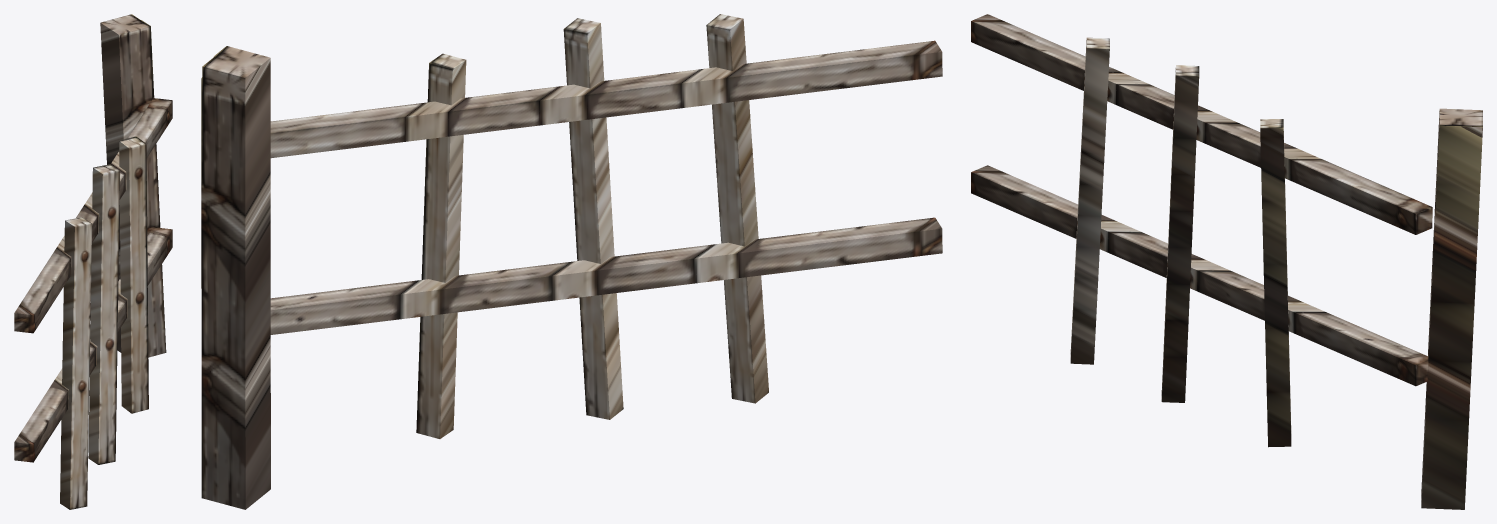
Rendered from fence_13.glb.
3 renders of one model, left to right at view 1: azimuth 30°, elevation 25°; view 2: azimuth 150°, elevation 25°; view 3: azimuth 270°, elevation 25°, orthographic. The views are drawn at different scales.
Parts seen in each view (by area): view 1: fence_13_game; view 2: fence_13_game; view 3: fence_13_game.
Boxes of the visible parts, x1,y1,x2,y2 form: fence_13_game: [14, 14, 172, 509]; fence_13_game: [201, 14, 942, 509]; fence_13_game: [971, 14, 1482, 509].
Bounding box in the file's own units: 1.38 × 1.26 × 1.53.
1 material, 1 textured.
